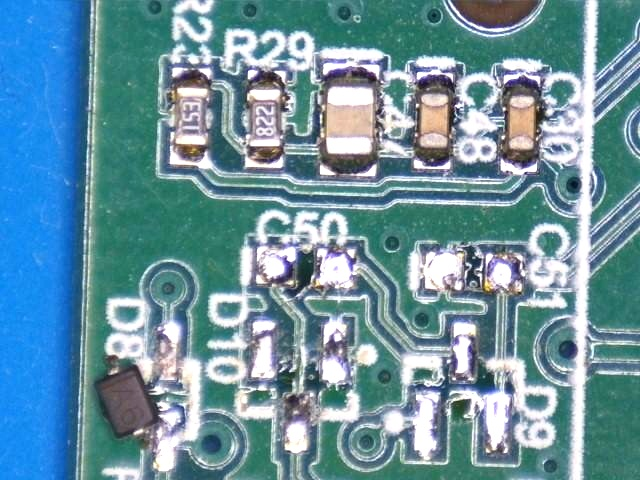pcb_defect: (94, 354, 178, 471)
